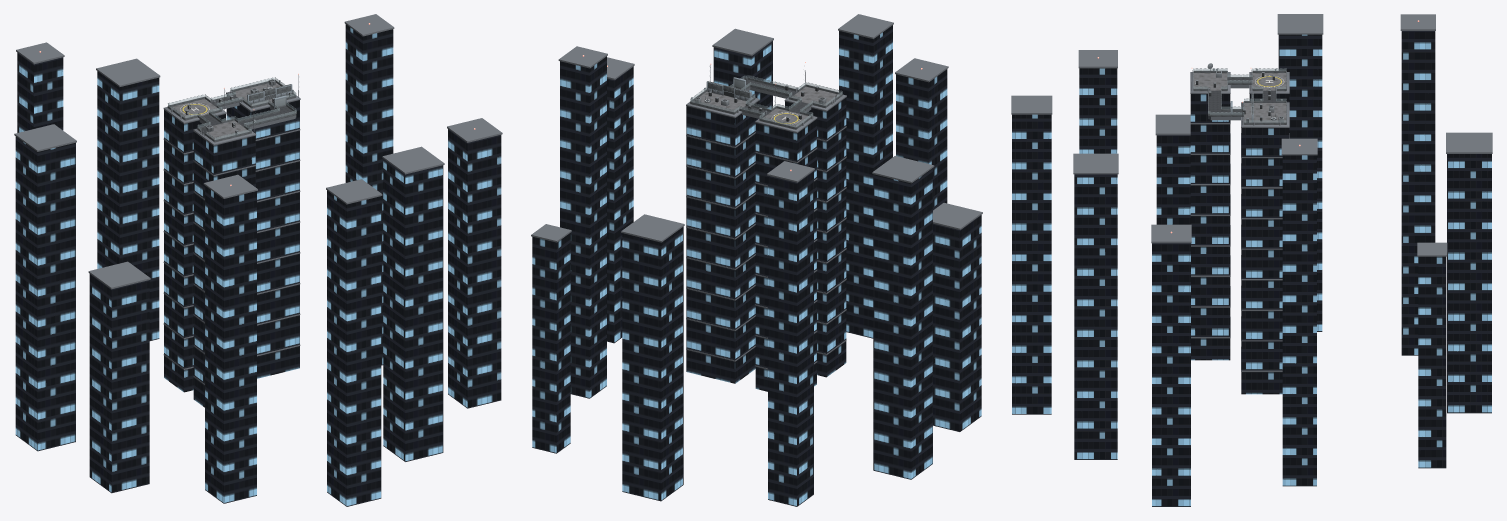
Rendered from hd-world-2.glb.
3 views of the same model, side by side, from view 1: azimuth 30°, elevation 25°; view 2: azimuth 150°, elevation 25°; view 3: azimuth 270°, elevation 25° (orthographic).
Parts seen in each view (by area): view 1: Static, Floor; view 2: Static, Floor; view 3: Static, Floor.
Boxes of the visible parts, x1=… form: Static: x1=14, y1=14, x2=502, y2=506; Floor: x1=170, y1=82, x2=295, y2=142; Static: x1=531, y1=14, x2=982, y2=506; Floor: x1=691, y1=79, x2=839, y2=129; Static: x1=1011, y1=14, x2=1492, y2=506; Floor: x1=1193, y1=73, x2=1286, y2=124.
Size of the model in its own units: 109 by 87.56 by 114.
Materials: 16 (5 with a texture image).
